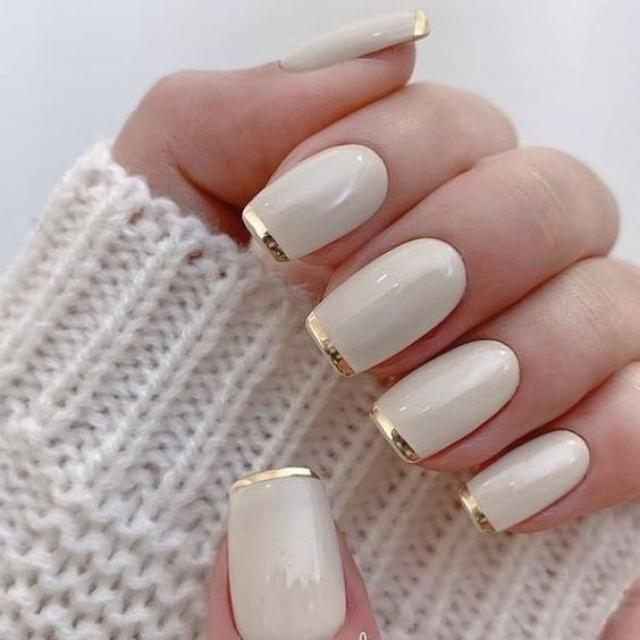Fingernail: (307, 238, 465, 376), (229, 469, 345, 639), (372, 340, 519, 459), (242, 144, 389, 262), (461, 430, 589, 532), (280, 9, 428, 72)
